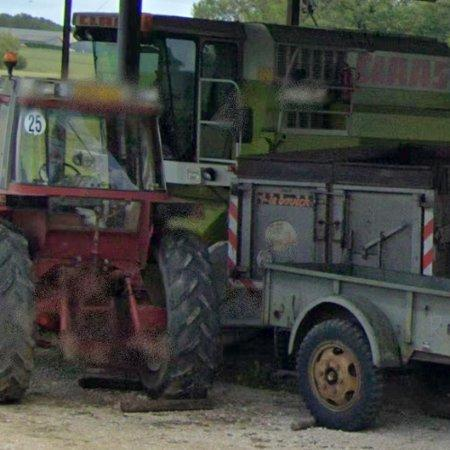tractors: (0, 80, 226, 404)
